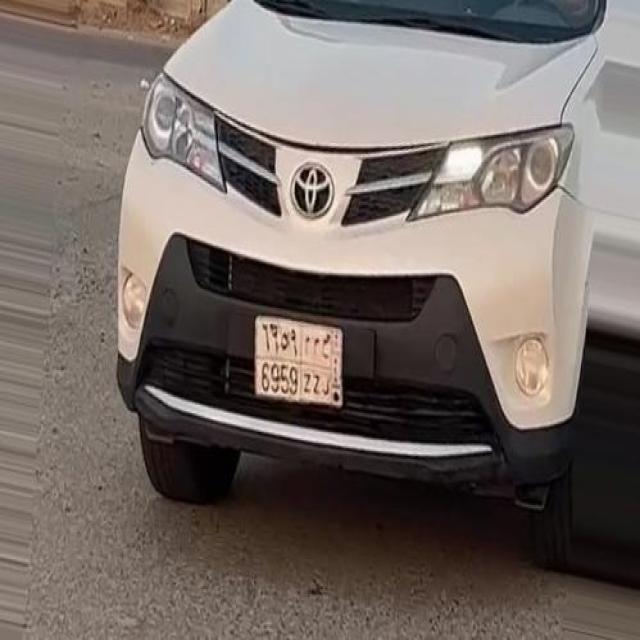Car-plate: (239, 306, 358, 419)
